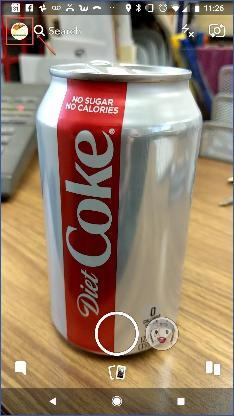Can: (34, 59, 204, 359)
